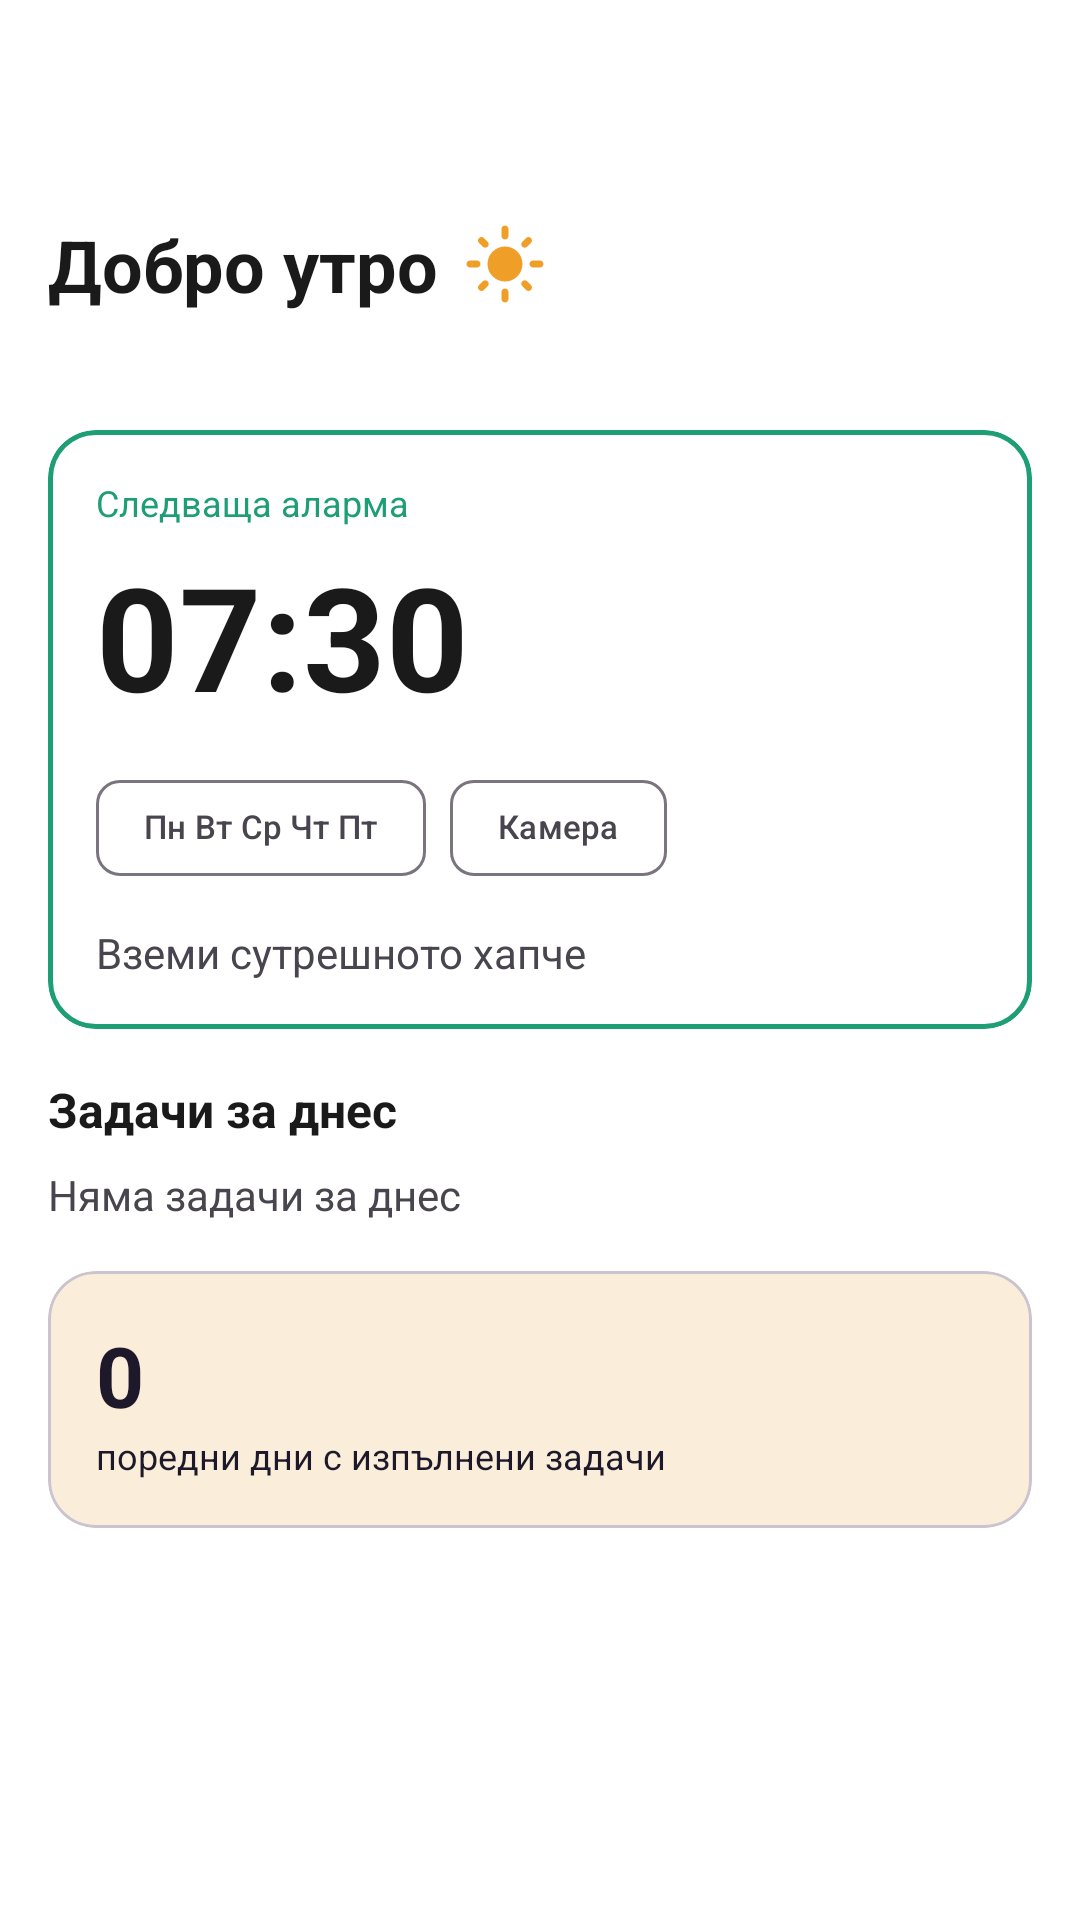

Where icons sit on this 1080 x 1920 app screen, as (x1, y1, x2, y2):
sun: (466, 225, 544, 303)
